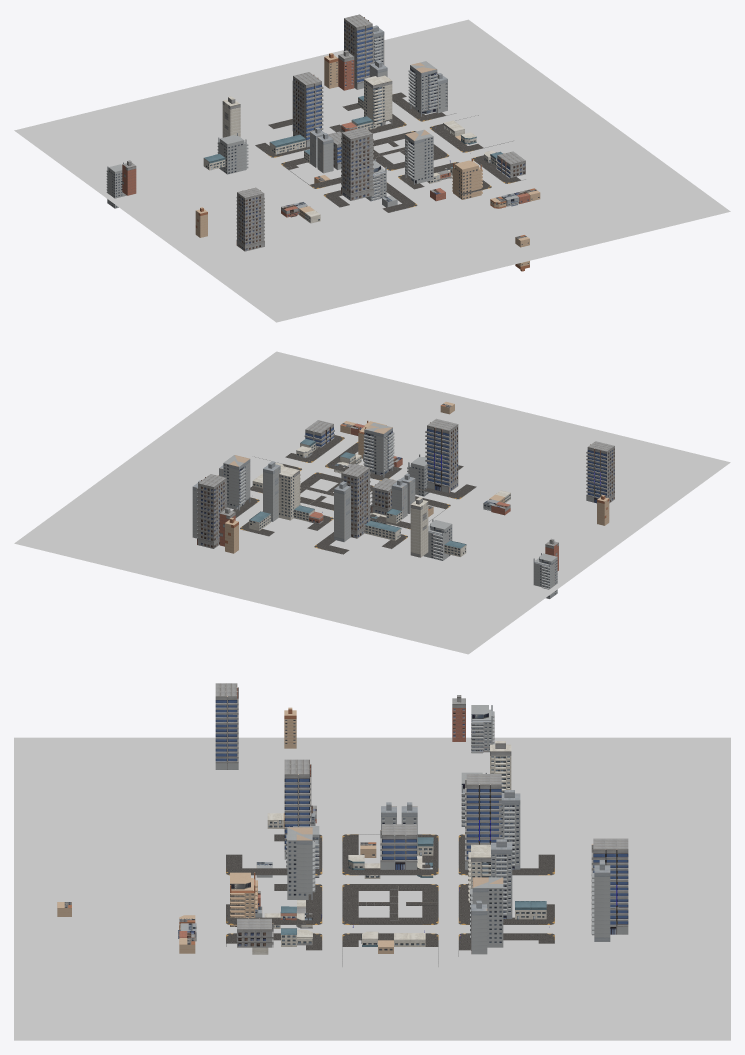
The model's file is EntornoFix.fbx.
The picture shows the model from 3 angles, top to bottom: view 1: azimuth 30°, elevation 25°; view 2: azimuth 150°, elevation 25°; view 3: azimuth 270°, elevation 25°; orthographic projection. The views are drawn at different scales.
Parts seen in each view (by area): view 1: Plane001, Edificio_3, Edificio_1, Edificio_4, Edificio_5, EdificioEsquina_3, EdificioEsquina_1, EdificioEsquina_2, EdificioEsquina_4, EdificioEsquina_5, EdificioFrene_5, Edificio (+3 smaller); view 2: Plane001, Edificio_3, Edificio_5, Edificio_4, Edificio_1, EdificioEsquina_3, EdificioEsquina_1, EdificioFrene_5, EdificioEsquina_2, EdificioFrene_4, EdificioFrene_3, EdificioEsquina_5 (+5 smaller); view 3: Plane001, Edificio_1, Edificio_5, Edificio_4, EdificioEsquina_3, Edificio_3, Edificio_2, EdificioEsquina_1, EdificioFrene_1, EdificioFrene_4, EdificioEsquina_4, EdificioFrene_3 (+6 smaller).
Boxes of the visible parts, left/top/right/bottom form: Plane001: left=14, top=19, right=730, bottom=322; Edificio_3: left=341, top=127, right=373, bottom=200; Edificio_1: left=293, top=72, right=323, bottom=147; Edificio_4: left=236, top=187, right=264, bottom=251; Edificio_5: left=344, top=14, right=373, bottom=89; EdificioEsquina_3: left=405, top=129, right=433, bottom=184; EdificioEsquina_1: left=408, top=61, right=437, bottom=116; EdificioEsquina_2: left=364, top=75, right=392, bottom=128; EdificioEsquina_4: left=452, top=158, right=482, bottom=199; EdificioEsquina_5: left=217, top=133, right=248, bottom=174; EdificioFrene_5: left=222, top=96, right=240, bottom=137; Edificio: left=495, top=151, right=525, bottom=178; Plane001: left=14, top=351, right=730, bottom=654; Edificio_3: left=425, top=418, right=458, bottom=492; Edificio_5: left=197, top=474, right=227, bottom=548; Edificio_4: left=586, top=441, right=614, bottom=503; Edificio_1: left=340, top=463, right=370, bottom=538; EdificioEsquina_3: left=363, top=422, right=394, bottom=477; EdificioEsquina_1: left=223, top=455, right=250, bottom=510; EdificioFrene_5: left=410, top=497, right=428, bottom=557; EdificioEsquina_2: left=279, top=465, right=300, bottom=520; EdificioFrene_4: left=334, top=481, right=350, bottom=541; EdificioFrene_3: left=263, top=461, right=280, bottom=521; EdificioEsquina_5: left=423, top=519, right=452, bottom=560; Plane001: left=14, top=737, right=730, bottom=1040; Edificio_1: left=465, top=774, right=501, bottom=869; Edificio_5: left=591, top=838, right=628, bottom=934; Edificio_4: left=215, top=683, right=238, bottom=769; EdificioEsquina_3: left=287, top=827, right=315, bottom=899; Edificio_3: left=284, top=759, right=311, bottom=859; Edificio_2: left=380, top=824, right=416, bottom=869; EdificioEsquina_1: left=470, top=877, right=503, bottom=947; EdificioFrene_1: left=592, top=860, right=610, bottom=941; EdificioFrene_4: left=499, top=790, right=520, bottom=869; EdificioEsquina_4: left=230, top=872, right=257, bottom=926; EdificioFrene_3: left=491, top=839, right=512, bottom=918.
Bounding box in the file's own units: 450 × 450 × 111.
13 materials, 13 textured.
